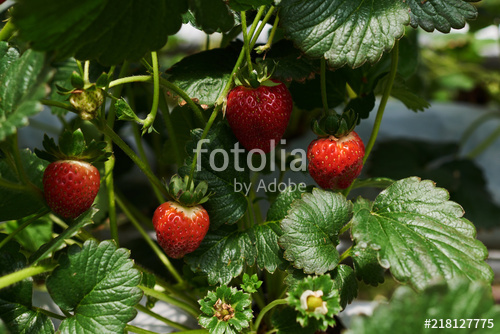ripe_strawberry: (225, 77, 295, 155), (41, 156, 103, 222), (151, 196, 212, 262), (306, 129, 367, 192)
unripe_strawberry: (72, 82, 106, 117)
